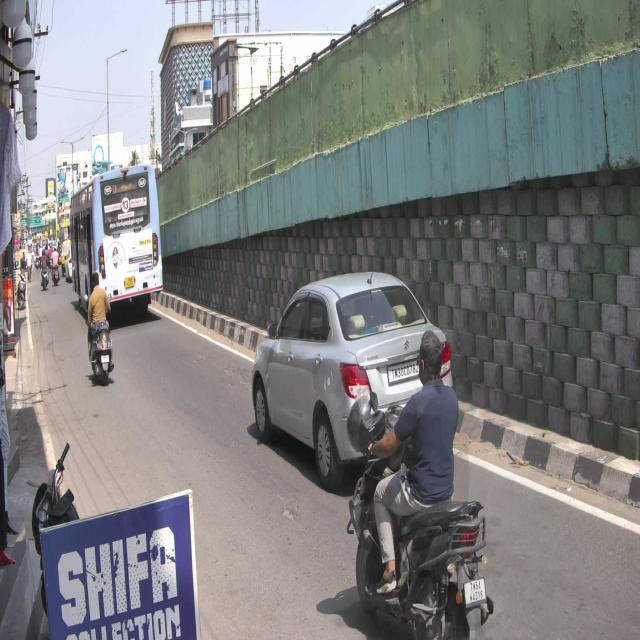single_rider: (346, 325, 494, 640)
